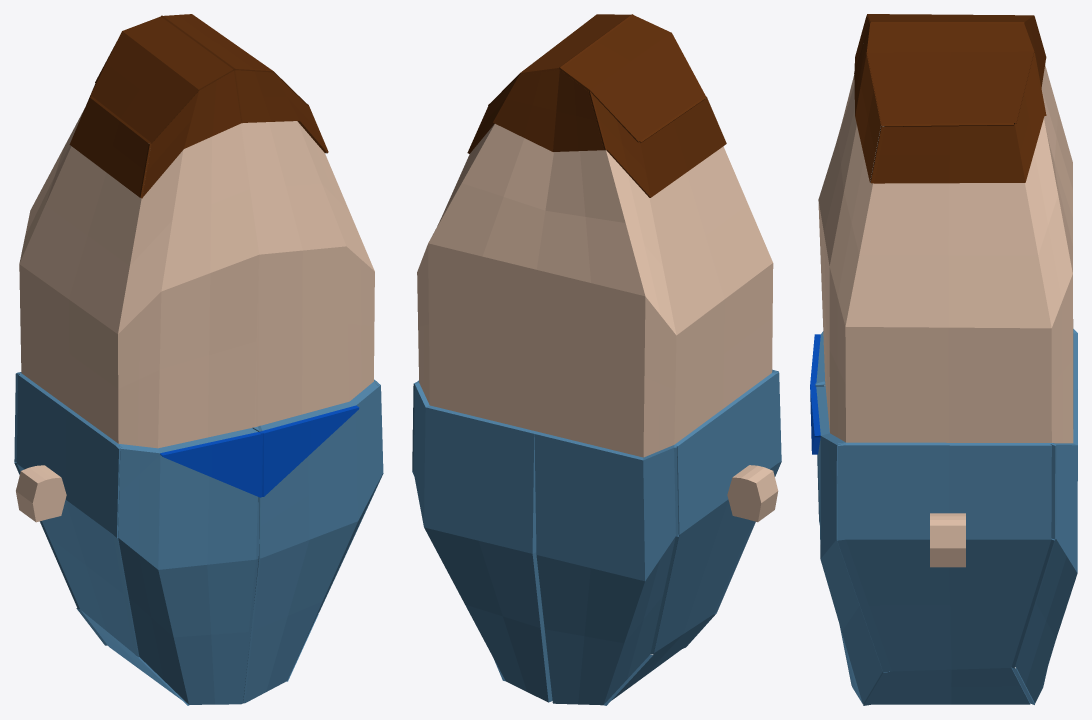
The model's file is office-character-fbx (1).fbx.
3 renders of one model, left to right at view 1: azimuth 30°, elevation 25°; view 2: azimuth 150°, elevation 25°; view 3: azimuth 270°, elevation 25°, orthographic. The views are drawn at different scales.
Parts seen in each view (by area): view 1: Cube; view 2: Cube; view 3: Cube.
Boxes of the visible parts, <box> form: Cube: <box>14,14,383,705</box>; Cube: <box>412,14,781,705</box>; Cube: <box>810,14,1077,705</box>.
Size of the model in its own units: 45.72 by 79.14 by 28.89.
